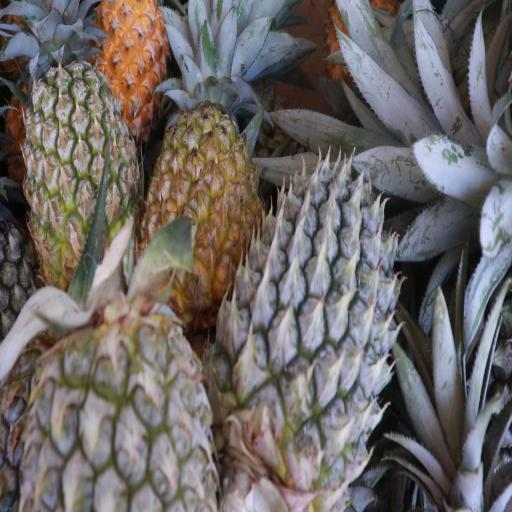------------------------------: (25, 64, 134, 274)
Pineapple - v8 v1: (151, 104, 260, 300), (73, 0, 164, 109)
